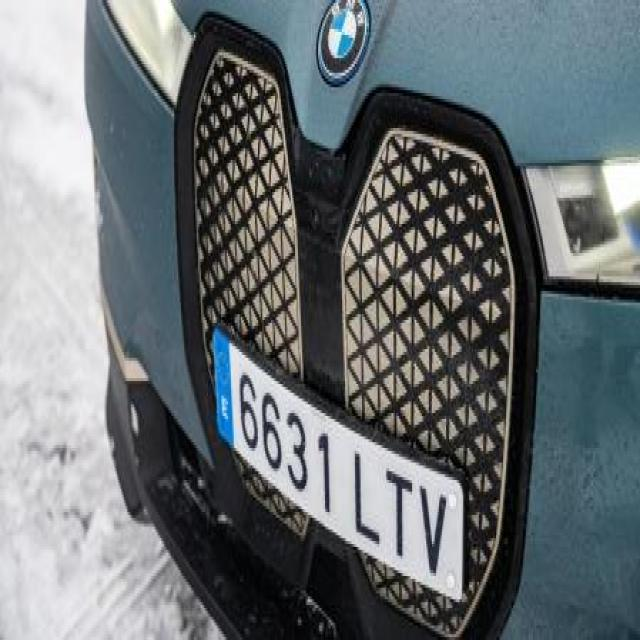license_plate-34Td: (217, 329, 463, 596)
